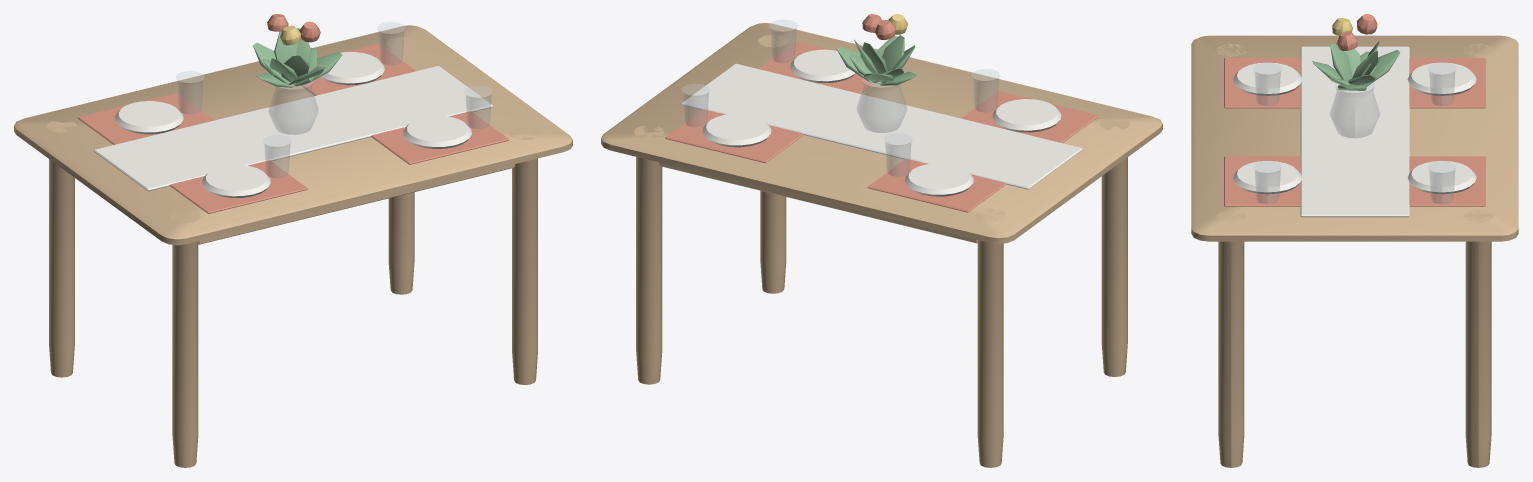
Rendered from dining-table.glb.
3 views of the same model, side by side, from view 1: azimuth 30°, elevation 25°; view 2: azimuth 150°, elevation 25°; view 3: azimuth 270°, elevation 25° (orthographic).
Visible parts, largest first — view 1: dining-table; view 2: dining-table; view 3: dining-table.
Part boxes in pixels (<box>): dining-table: <box>14,14,572,467</box>; dining-table: <box>601,14,1162,467</box>; dining-table: <box>1191,14,1518,467</box>.
Bounding box in the file's own units: 1.3 × 1.09 × 0.9.
